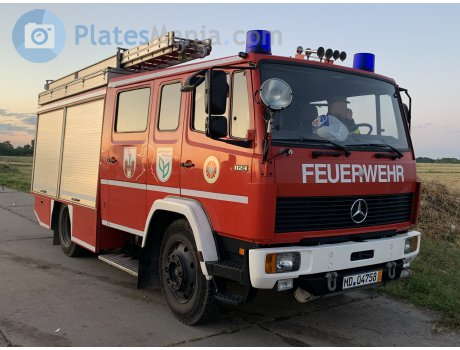License Plates: (344, 274, 388, 292)
